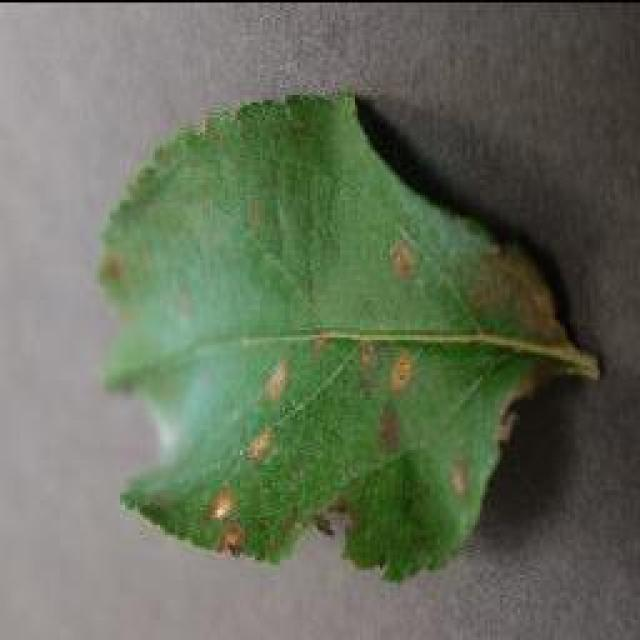apple healthy: (92, 85, 600, 583)
